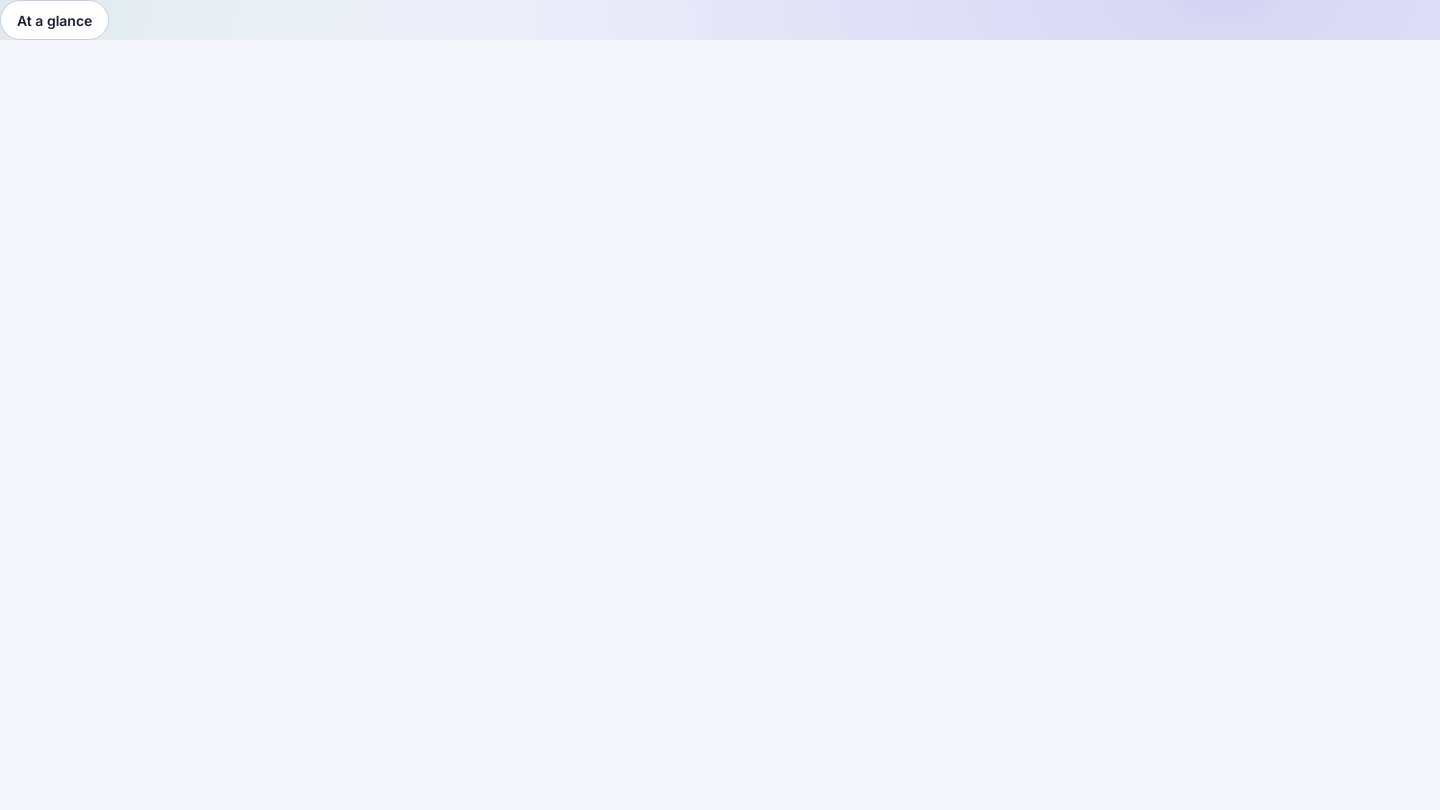
Test: Impact (At a glance) › gives screen readers every final value, whatever the animation shows
Click the button "At a glance" at (55, 20), box [0,0,109,40]
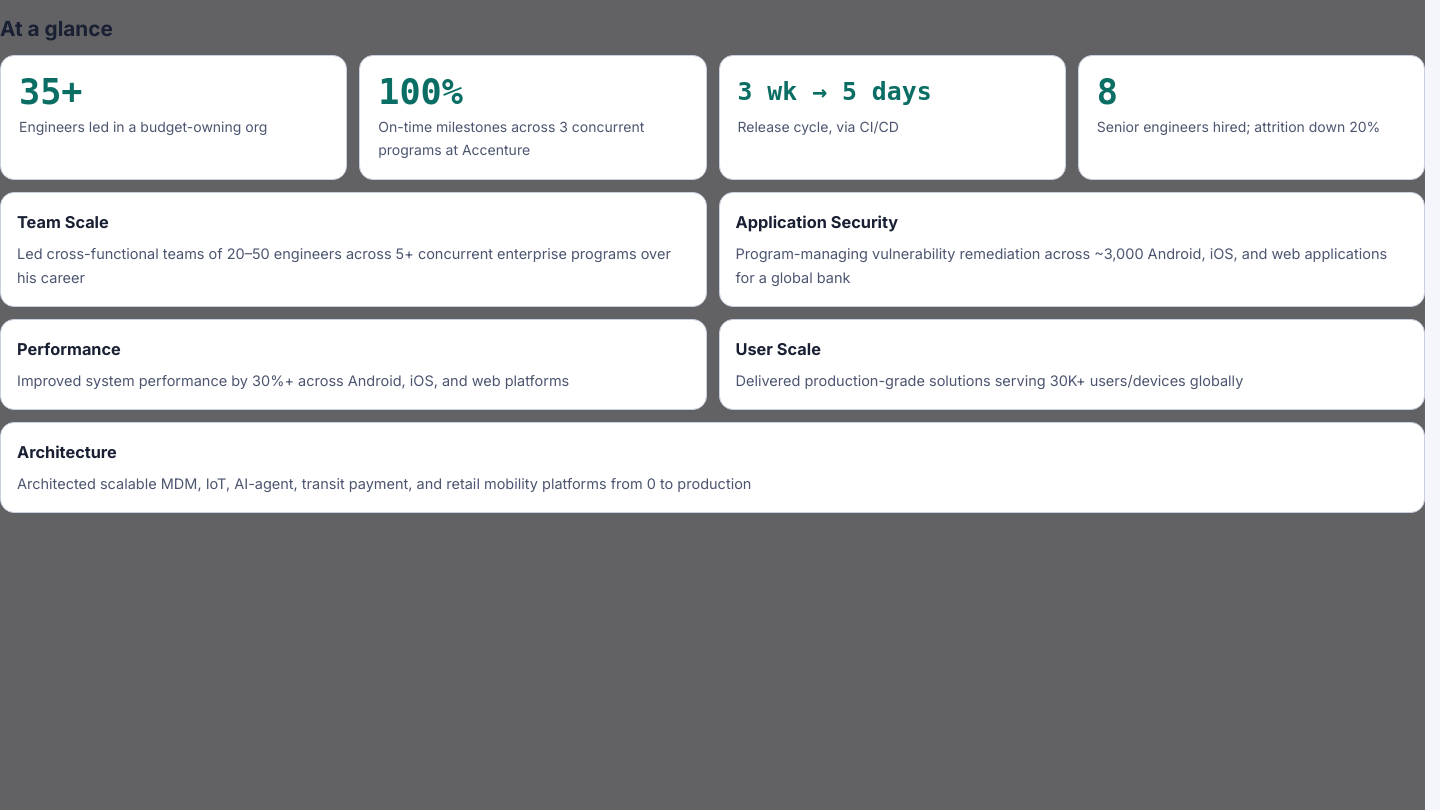
Result: the text "Engineers led in a budget-owning org" is shown at [19,118,267,135]
Result: the text "On-time milestones across 3 concurrent programs at Accenture" is shown at [378,115,688,161]
Result: the text "Release cycle, via CI/CD" is shown at [738,118,899,135]
